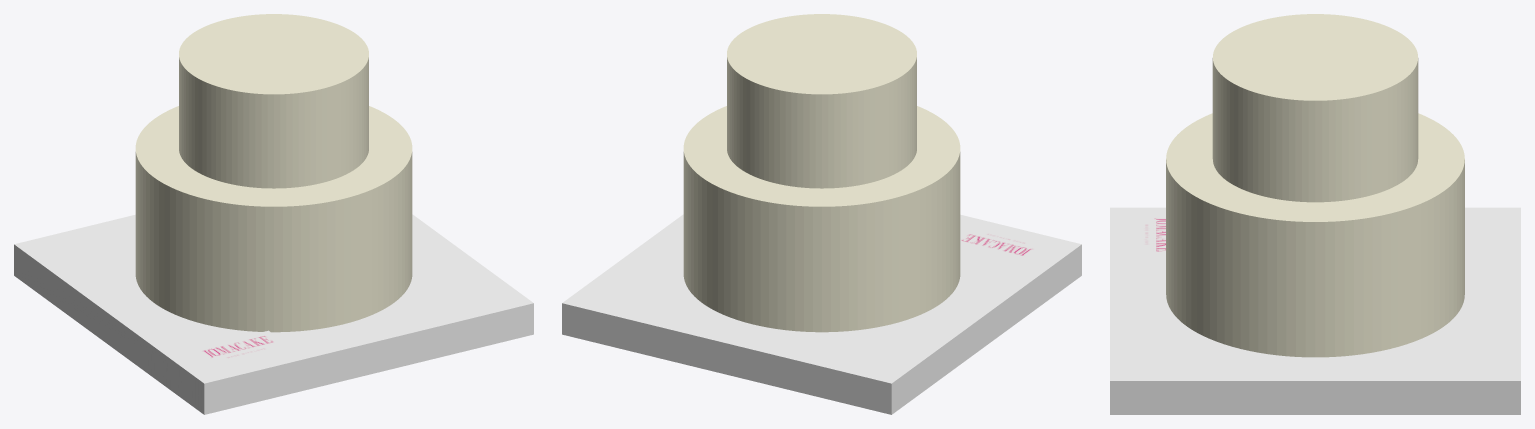
File: cake_tier2_6-4_layers2_v34.glb
3 renders of one model, left to right at view 1: azimuth 30°, elevation 25°; view 2: azimuth 150°, elevation 25°; view 3: azimuth 270°, elevation 25°, orthographic. The views are drawn at different scales.
Parts seen in each view (by area): view 1: Tier0, Board, Tier1, Logo; view 2: Tier0, Board, Tier1, Logo; view 3: Tier0, Board, Tier1, Logo.
Boxes of the visible parts, left/top/right/bottom form: Tier0: left=135, top=106, right=412, bottom=332; Board: left=14, top=214, right=533, bottom=414; Tier1: left=179, top=14, right=368, bottom=188; Logo: left=190, top=330, right=291, bottom=366; Tier0: left=683, top=106, right=960, bottom=332; Board: left=562, top=214, right=1081, bottom=414; Tier1: left=727, top=14, right=916, bottom=188; Logo: left=960, top=225, right=1050, bottom=260; Tier0: left=1166, top=113, right=1464, bottom=357; Board: left=1110, top=207, right=1520, bottom=414; Tier1: left=1212, top=14, right=1418, bottom=202; Logo: left=1134, top=214, right=1165, bottom=255.
Size of the model in its own units: 0.22 by 0.16 by 0.22.
